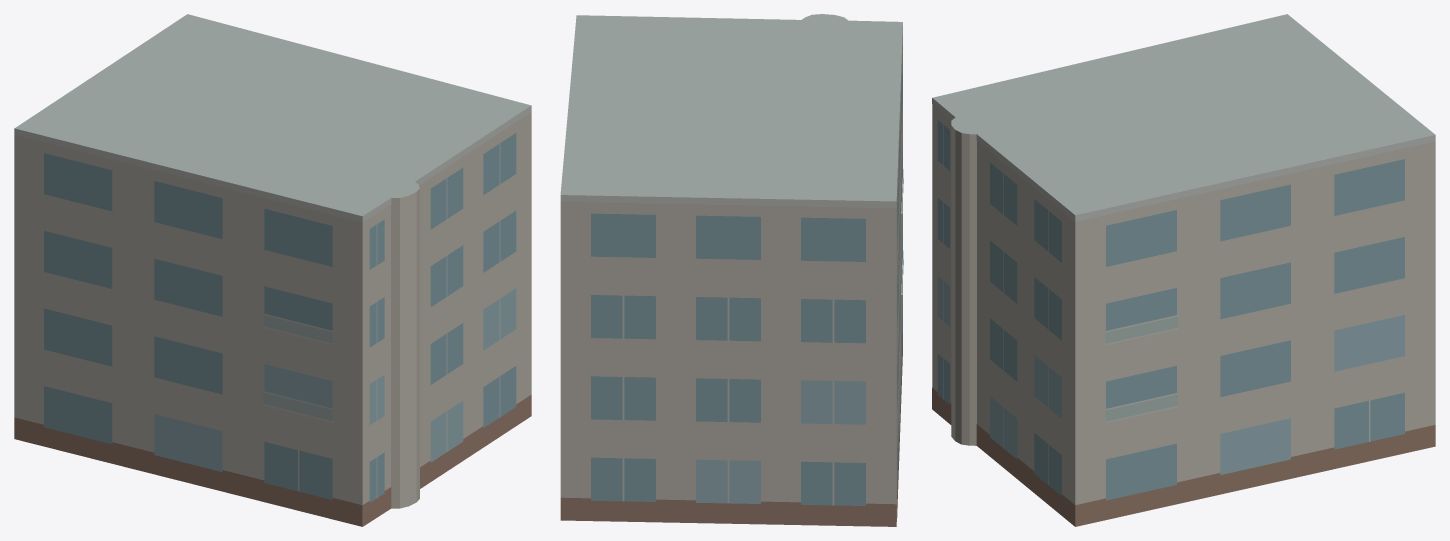
The model's file is survey-upis-32805420.glb.
The picture shows the model from 3 angles, left to right: view 1: azimuth 30°, elevation 25°; view 2: azimuth 150°, elevation 25°; view 3: azimuth 270°, elevation 25°; orthographic projection. The views are drawn at different scales.
Parts seen in each view (by area): view 1: survey-upis-32805420.tmp; view 2: survey-upis-32805420.tmp; view 3: survey-upis-32805420.tmp.
Part boxes in pixels (x1,y1,x2,y2): survey-upis-32805420.tmp: (14, 14, 531, 526); survey-upis-32805420.tmp: (560, 14, 903, 526); survey-upis-32805420.tmp: (932, 14, 1435, 526).
Size of the model in its own units: 16.43 by 11.85 by 17.36.
